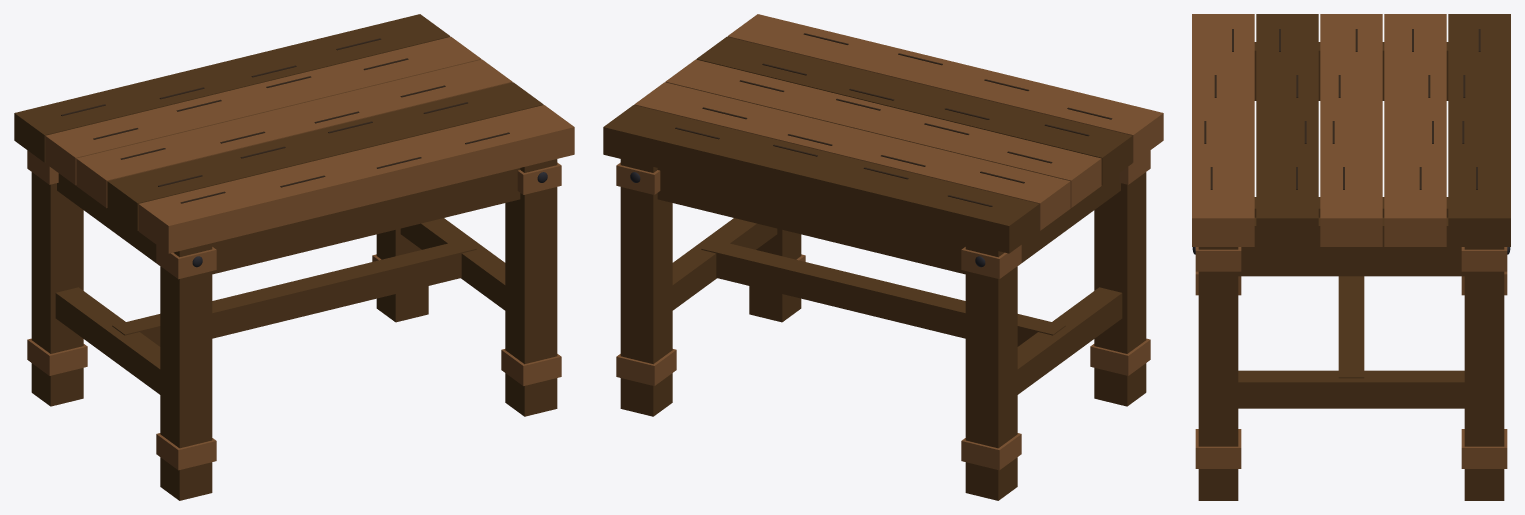
The model's file is mia-table.glb.
The picture shows the model from 3 angles, left to right: view 1: azimuth 30°, elevation 25°; view 2: azimuth 150°, elevation 25°; view 3: azimuth 270°, elevation 25°; orthographic projection. The views are drawn at different scales.
Visible parts, largest first — view 1: Body_wood, Body_oak, Body_grain; view 2: Body_wood, Body_oak, Body_grain; view 3: Body_wood, Body_oak, Body_grain.
Part boxes in pixels (<box>): Body_wood: <box>14,14,557,500</box>; Body_oak: <box>27,37,574,470</box>; Body_grain: <box>61,38,509,203</box>; Body_wood: <box>603,37,1146,500</box>; Body_oak: <box>616,14,1163,470</box>; Body_grain: <box>675,33,1112,206</box>; Body_wood: <box>1198,14,1510,500</box>; Body_oak: <box>1192,14,1507,468</box>; Body_grain: <box>1204,29,1480,189</box>.
Size of the model in its own units: 1.2 by 0.796 by 0.791.
